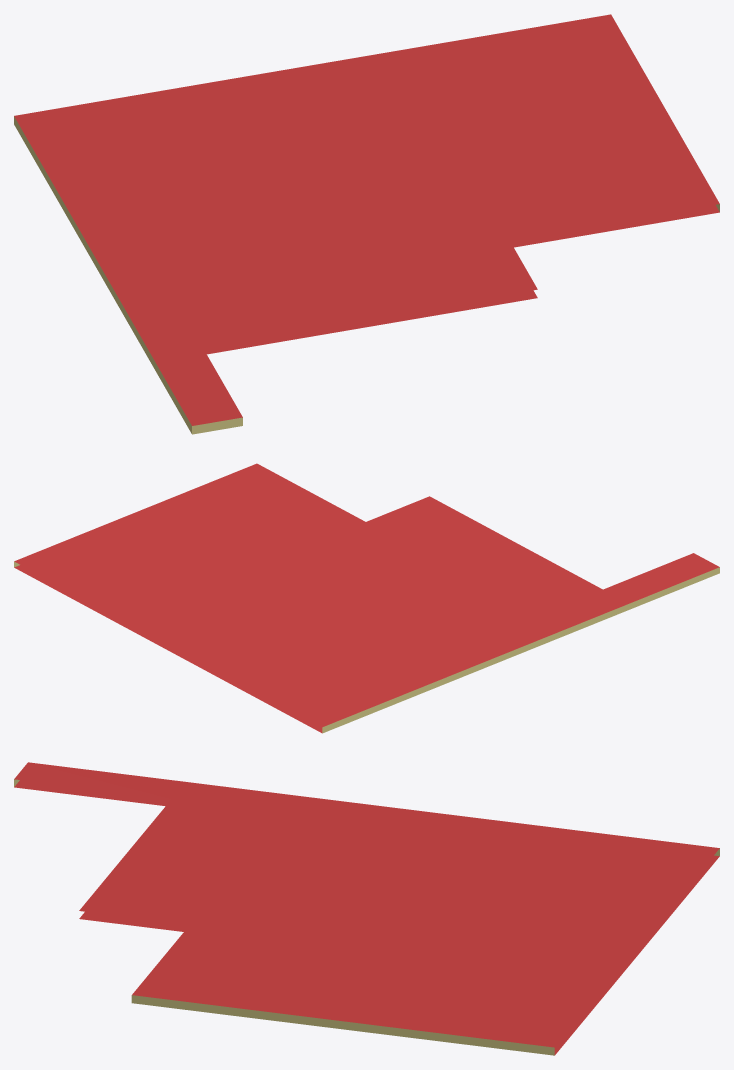
The picture shows the model from 3 angles, top to bottom: view 1: azimuth 30°, elevation 25°; view 2: azimuth 150°, elevation 25°; view 3: azimuth 270°, elevation 25°; orthographic projection. The views are drawn at different scales.
Size of the model in its own units: 8.56 by 7.89 by 0.574.
